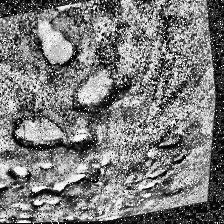pothole: (68, 64, 138, 124), (30, 14, 84, 76), (7, 108, 73, 158), (25, 168, 96, 214), (23, 205, 86, 223), (69, 122, 99, 156), (142, 163, 174, 192), (50, 1, 92, 18), (156, 132, 183, 156), (11, 162, 35, 182), (164, 184, 188, 202), (0, 175, 12, 197), (128, 0, 168, 4), (111, 212, 127, 220)
